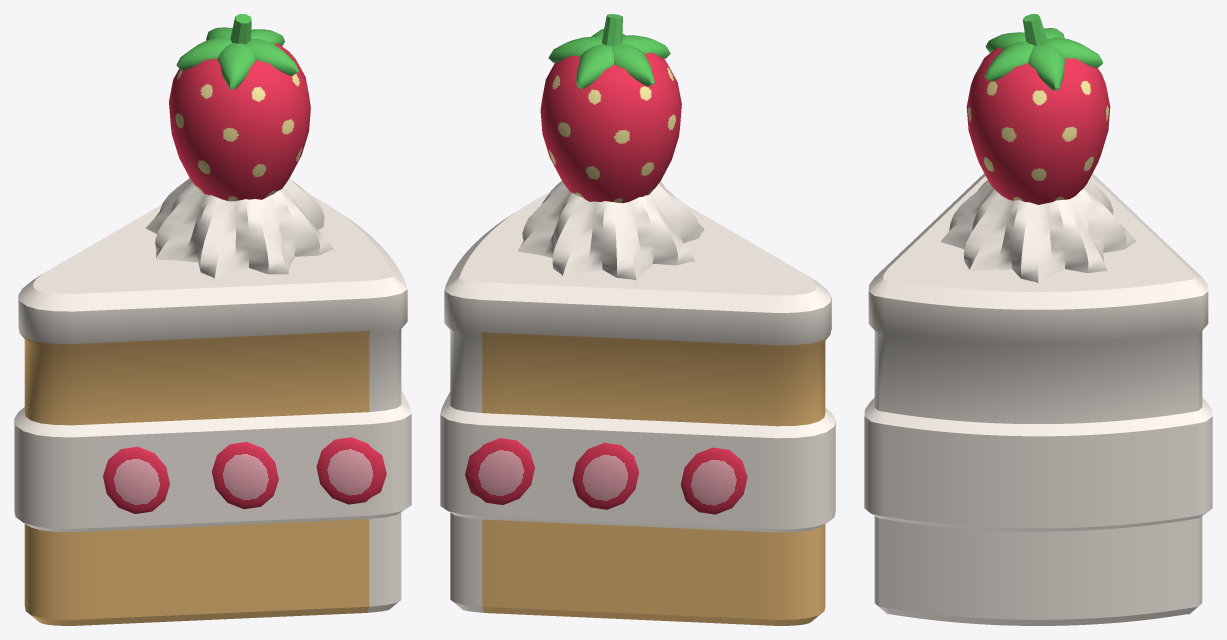
File: StrawberryShortcake.glb
The picture shows the model from 3 angles, left to right: view 1: azimuth 30°, elevation 25°; view 2: azimuth 150°, elevation 25°; view 3: azimuth 270°, elevation 25°; orthographic projection.
Parts seen in each view (by area): view 1: StrawberryShortcake; view 2: StrawberryShortcake; view 3: StrawberryShortcake.
Part boxes in pixels (x1,y1,x2,y2): StrawberryShortcake: [14, 14, 411, 625]; StrawberryShortcake: [440, 14, 835, 625]; StrawberryShortcake: [864, 14, 1212, 625].
Bounding box in the file's own units: 0.9285 × 1.46 × 0.8221.
5 materials, 5 textured.
